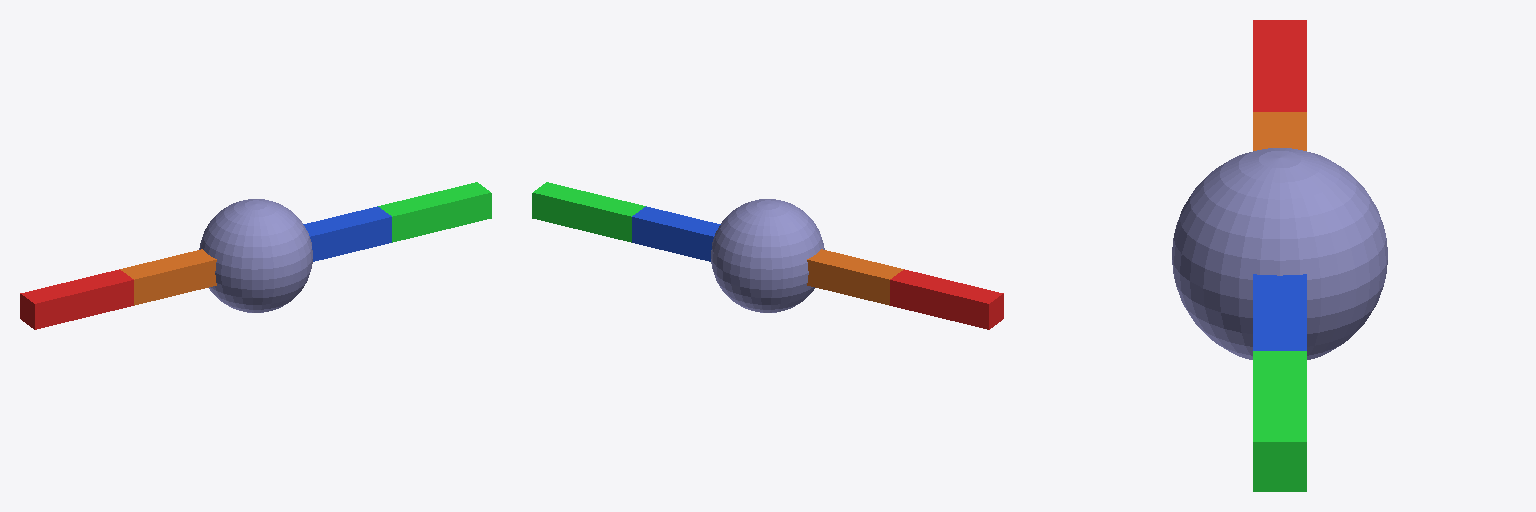
The robot description file, URDF, robot "satellite_5dof":
<?xml version="1.0"?>
<robot name="satellite_5dof">

  <!-- BASE: sphere connected to world via revolute joint (z-axis) -->
  <link name="world"/>
  
  <link name="base">
    <inertial>
      <origin xyz="0 0 0"/>
      <mass value="2.0"/>
      <inertia ixx="0.008" ixy="0" ixz="0" iyy="0.008" iyz="0" izz="0.008"/>
    </inertial>
    <visual>
      <origin xyz="0 0 0"/>
      <geometry><sphere radius="0.1"/></geometry>
      <material name="gray"><color rgba="0.6 0.6 0.8 1"/></material>
    </visual>
    <collision>
      <origin xyz="0 0 0"/>
      <geometry><sphere radius="0.1"/></geometry>
    </collision>
  </link>

  <joint name="base_joint" type="revolute">
    <parent link="world"/>
    <child link="base"/>
    <origin xyz="0 0 0"/>
    <axis xyz="0 0 1"/>
    <limit lower="-3.1416" upper="3.1416" effort="10" velocity="5"/>
  </joint>

  <!-- Link properties: cuboids -->
  <link name="link1">
    <inertial>
      <origin xyz="0 0 0"/>
      <mass value="1.0"/>
      <inertia ixx="0.0004" ixy="0" ixz="0" iyy="0.0035" iyz="0" izz="0.0035"/>
    </inertial>
    <visual>
      <geometry><box size="0.2 0.05 0.05"/></geometry>
      <material name="blue"><color rgba="0.2 0.4 0.9 1"/></material>
    </visual>
    <collision>
      <geometry><box size="0.2 0.05 0.05"/></geometry>
    </collision>
  </link>

  <link name="link2">
    <inertial>
      <origin xyz="0 0 0"/>
      <mass value="1.0"/>
      <inertia ixx="0.0004" ixy="0" ixz="0" iyy="0.0035" iyz="0" izz="0.0035"/>
    </inertial>
    <visual>
      <geometry><box size="0.2 0.05 0.05"/></geometry>
      <material name="green"><color rgba="0.2 0.9 0.3 1"/></material>
    </visual>
    <collision>
      <geometry><box size="0.2 0.05 0.05"/></geometry>
    </collision>
  </link>

  <link name="link3">
    <inertial>
      <origin xyz="0 0 0"/>
      <mass value="1.0"/>
      <inertia ixx="0.0004" ixy="0" ixz="0" iyy="0.0035" iyz="0" izz="0.0035"/>
    </inertial>
    <visual>
      <geometry><box size="0.2 0.05 0.05"/></geometry>
      <material name="orange"><color rgba="0.9 0.5 0.2 1"/></material>
    </visual>
    <collision>
      <geometry><box size="0.2 0.05 0.05"/></geometry>
    </collision>
  </link>

  <link name="link4">
    <inertial>
      <origin xyz="0 0 0"/>
      <mass value="1.0"/>
      <inertia ixx="0.0004" ixy="0" ixz="0" iyy="0.0035" iyz="0" izz="0.0035"/>
    </inertial>
    <visual>
      <geometry><box size="0.2 0.05 0.05"/></geometry>
      <material name="red"><color rgba="0.9 0.2 0.2 1"/></material>
    </visual>
    <collision>
      <geometry><box size="0.2 0.05 0.05"/></geometry>
    </collision>
  </link>

  <!-- Joints -->
  <joint name="joint1" type="revolute">
    <parent link="base"/>
    <child link="link1"/>
    <origin xyz="0.16 0 0"/>
    <axis xyz="0 0 1"/>
    <limit lower="-1.57" upper="1.57" effort="10" velocity="5"/>
  </joint>

  <joint name="joint2" type="revolute">
    <parent link="link1"/>
    <child link="link2"/>
    <origin xyz="0.2 0 0"/>
    <axis xyz="0 0 1"/>
    <limit lower="-1.57" upper="1.57" effort="10" velocity="5"/>
  </joint>

  <joint name="joint3" type="revolute">
    <parent link="base"/>
    <child link="link3"/>
    <origin xyz="-0.16 0 0"/>
    <axis xyz="0 0 1"/>
    <limit lower="-1.57" upper="1.57" effort="10" velocity="5"/>
  </joint>

  <joint name="joint4" type="revolute">
    <parent link="link3"/>
    <child link="link4"/>
    <origin xyz="-0.2 0 0"/>
    <axis xyz="0 0 1"/>
    <limit lower="-1.57" upper="1.57" effort="10" velocity="5"/>
  </joint>

</robot>

--- Facts derived from the render (not from the file) ---
The picture shows the robot from 3 angles, left to right: view 1: azimuth 30°, elevation 25°; view 2: azimuth 150°, elevation 25°; view 3: azimuth 270°, elevation 25°; orthographic projection.
Model satellite_5dof with 6 links and 5 joints (5 revolute), rooted at world, posed all joints at 0.
Links seen in each view (by area): view 1: base, link4, link2, link3, link1; view 2: base, link4, link2, link3, link1; view 3: base, link2, link4, link1, link3.
Boxes of the visible links, box(x1,y1,x2,y2) form: base: box(199, 199, 312, 312); link4: box(20, 269, 133, 329); link2: box(378, 182, 491, 242); link3: box(120, 249, 216, 305); link1: box(303, 206, 391, 261); base: box(711, 199, 824, 312); link4: box(890, 269, 1003, 329); link2: box(532, 182, 645, 242); link3: box(807, 249, 903, 305); link1: box(632, 206, 720, 261); base: box(1172, 148, 1387, 359); link2: box(1253, 351, 1306, 491); link4: box(1253, 20, 1306, 111); link1: box(1253, 274, 1306, 350); link3: box(1253, 112, 1306, 150).
Size in the robot's own frame: 0.92 by 0.2 by 0.2 metres.
Geometry: primitives only (box / cylinder / sphere), no mesh files.
